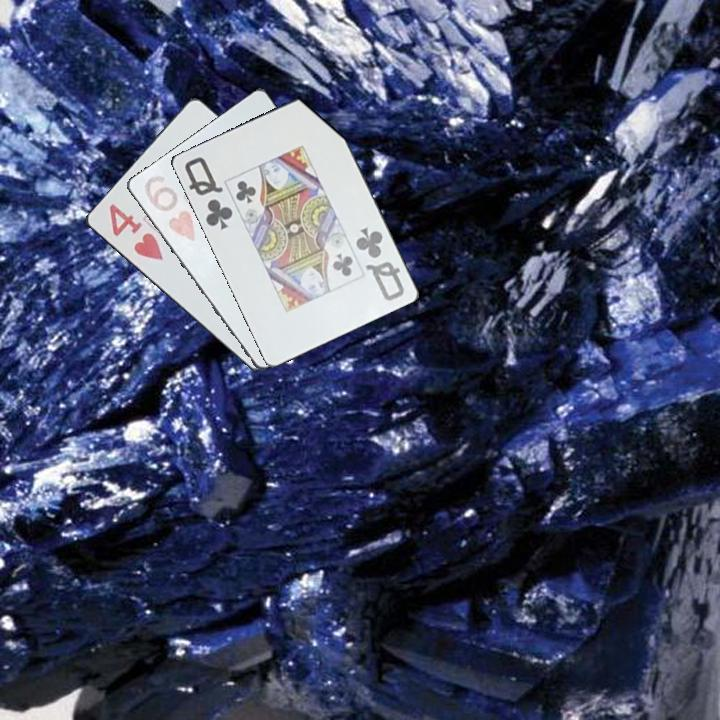4h: (105, 200, 166, 265)
6h: (137, 171, 199, 247)
Qc: (352, 223, 408, 304), (181, 153, 235, 233)
